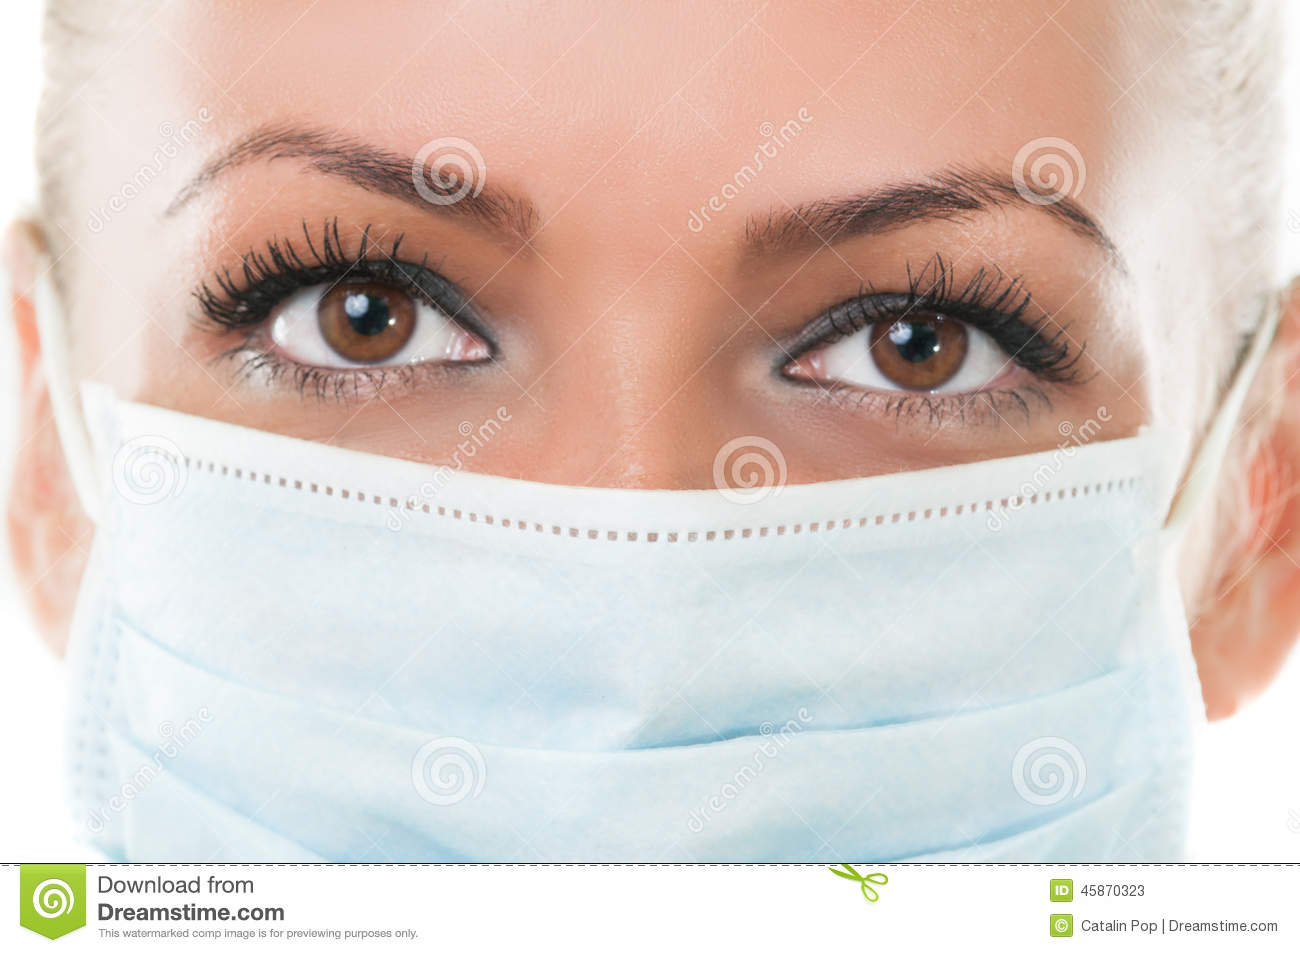mask: (61, 389, 1223, 865)
